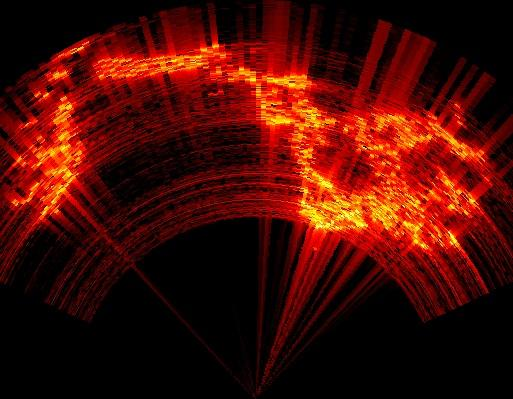shipwreck: (93, 44, 483, 248), (8, 95, 84, 218)
